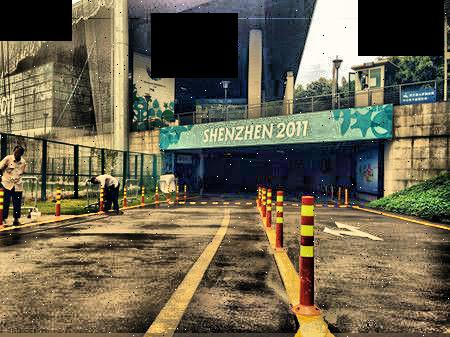bench: (295, 192, 320, 310), (273, 187, 284, 257)
